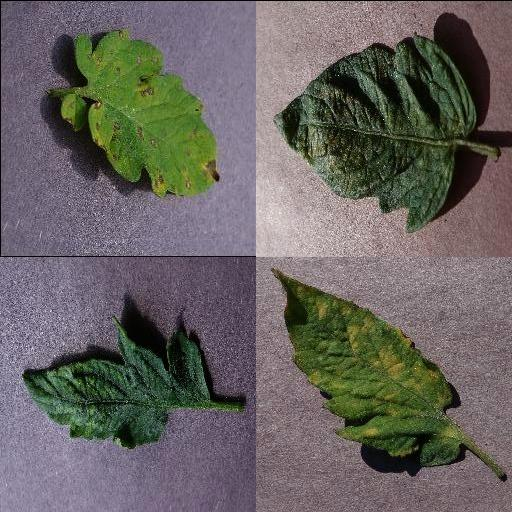Leaf Mold: (272, 268, 462, 464)
Mosaic Virus: (23, 314, 211, 448)
Septoria: (74, 28, 220, 198)
Spider Mites: (274, 35, 476, 233)
